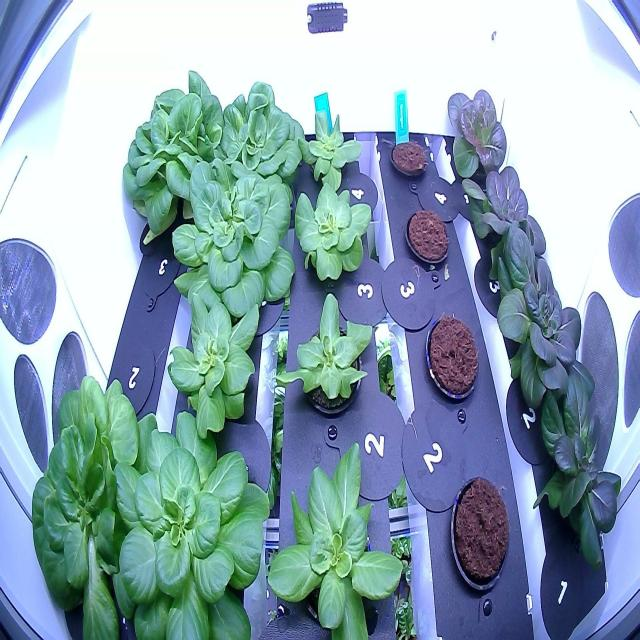Ready: (26, 370, 189, 639), (118, 59, 236, 237)
empty_pod: (106, 330, 160, 420), (133, 222, 181, 319)
pod: (444, 462, 518, 606), (418, 308, 487, 412), (401, 200, 454, 277), (387, 126, 433, 188)
young: (106, 396, 279, 640), (264, 437, 409, 639), (160, 151, 302, 325), (526, 361, 630, 578), (485, 219, 597, 409), (160, 276, 273, 443), (270, 285, 381, 420), (210, 78, 313, 197), (455, 153, 550, 268), (288, 171, 377, 292), (442, 70, 518, 195), (288, 101, 367, 201)
